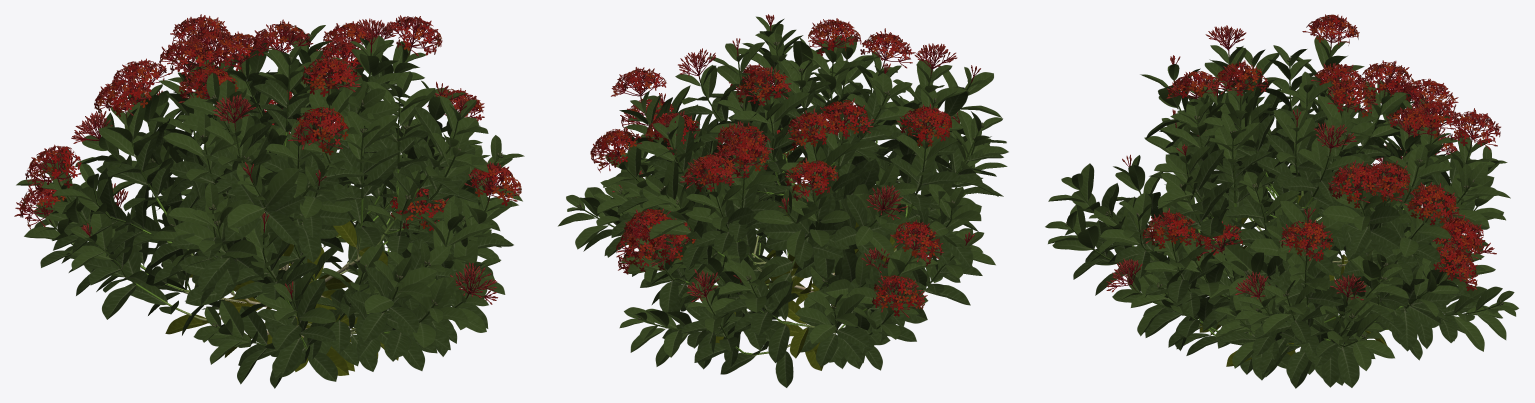
3 views of the same model, side by side, from view 1: azimuth 30°, elevation 25°; view 2: azimuth 150°, elevation 25°; view 3: azimuth 270°, elevation 25° (orthographic). The views are drawn at different scales.
Parts seen in each view (by area): view 1: Ixora_chinensis_red_HD; view 2: Ixora_chinensis_red_HD; view 3: Ixora_chinensis_red_HD.
Boxes of the visible parts, x1=… form: Ixora_chinensis_red_HD: x1=14, y1=14, x2=524, y2=388; Ixora_chinensis_red_HD: x1=558, y1=14, x2=1008, y2=387; Ixora_chinensis_red_HD: x1=1045, y1=14, x2=1518, y2=388.
Size of the model in its own units: 11.37 by 8.01 by 11.58.
14 materials, 14 textured.
